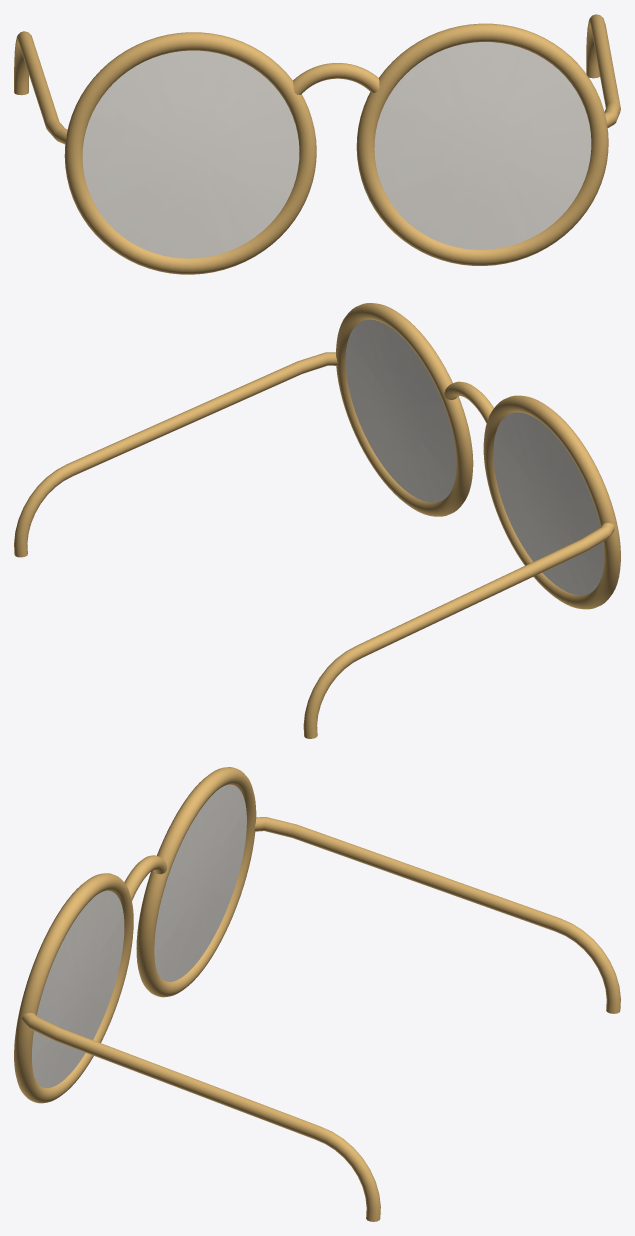
File: about.glb
The picture shows the model from 3 angles, top to bottom: view 1: azimuth 30°, elevation 25°; view 2: azimuth 150°, elevation 25°; view 3: azimuth 270°, elevation 25°; orthographic projection. The views are drawn at different scales.
Visible parts, largest first — view 1: lens_left, lens_right, rim_left, rim_right, temple_left, temple_right, bridge; view 2: lens_right, lens_left, rim_right, rim_left, temple_right, temple_left, bridge; view 3: lens_left, lens_right, rim_left, rim_right, temple_left, temple_right, bridge.
Boxes of the visible parts, x1,y1,x2,y2 form: lens_left: [82, 50, 299, 258]; lens_right: [374, 42, 591, 249]; rim_left: [64, 32, 316, 274]; rim_right: [356, 23, 608, 265]; temple_left: [14, 31, 67, 144]; temple_right: [586, 14, 620, 127]; bridge: [293, 63, 379, 94]; lens_right: [345, 319, 456, 502]; lens_left: [493, 412, 604, 595]; rim_right: [336, 303, 473, 516]; rim_left: [483, 395, 620, 609]; temple_right: [14, 352, 337, 557]; temple_left: [303, 523, 614, 738]; bridge: [444, 381, 493, 423]; lens_left: [154, 784, 246, 981]; lens_right: [32, 890, 124, 1087]; rim_left: [136, 767, 256, 997]; rim_right: [14, 873, 133, 1103]; temple_left: [254, 817, 620, 1013]; temple_right: [22, 1013, 380, 1221]; bridge: [124, 855, 167, 900].
Bounding box in the file's own units: 2.1 × 0.7562 × 1.92.
